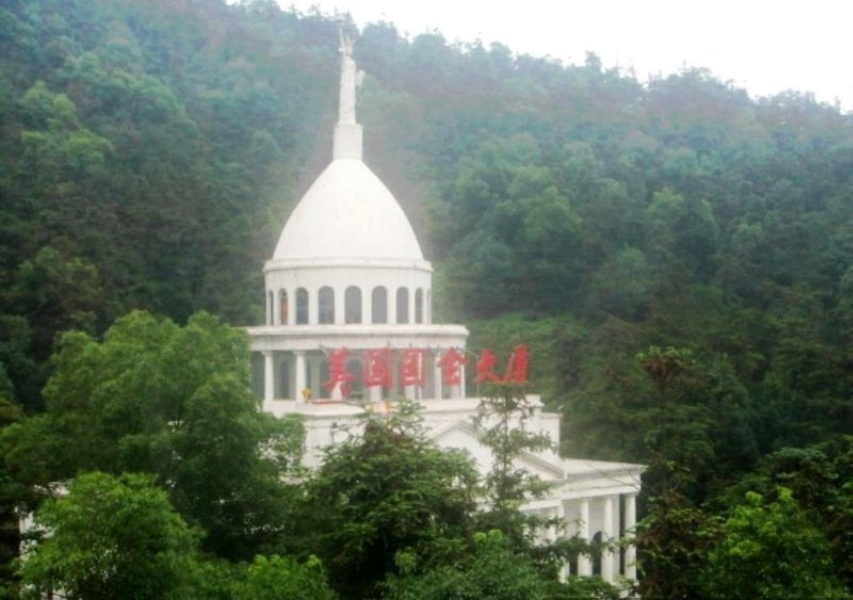text: (321, 343, 336, 398), (337, 343, 352, 398), (353, 343, 368, 398), (369, 343, 384, 398), (385, 343, 400, 398), (401, 343, 416, 398), (417, 343, 432, 398), (433, 343, 448, 398), (449, 343, 464, 398), (465, 343, 480, 398), (481, 343, 496, 398), (497, 343, 512, 398), (513, 343, 528, 398), (529, 343, 533, 398)
